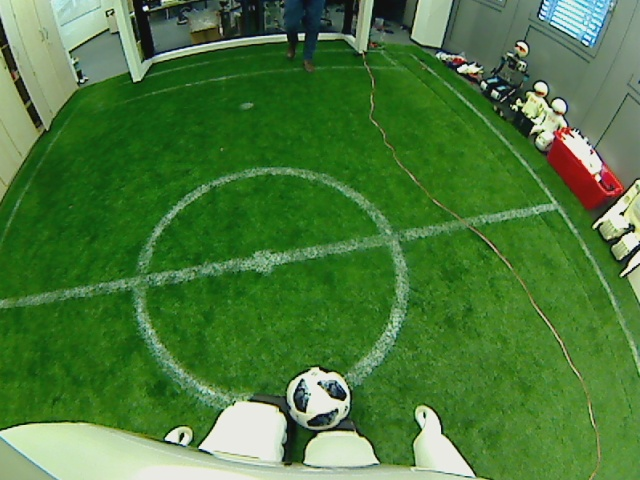ball: (283, 364, 352, 429)
